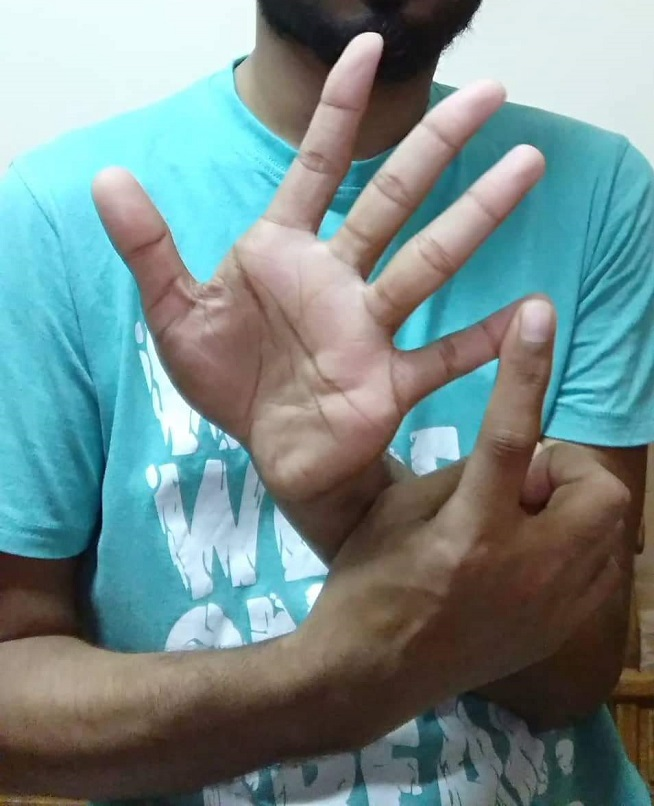i: (111, 33, 621, 581)
